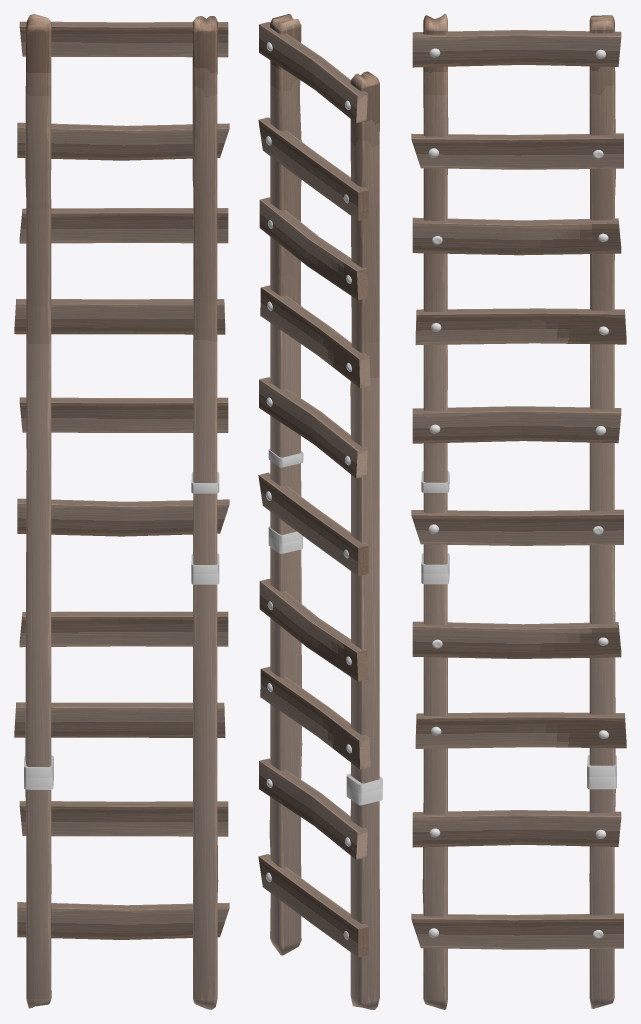
File: SM_Ladder_01.fbx
3 renders of one model, left to right at view 1: azimuth 90°, elevation 25°; view 2: azimuth 210°, elevation 25°; view 3: azimuth 270°, elevation 25°, orthographic. The views are drawn at different scales.
Visible parts, largest first — view 1: SM_Ladder_01_LOD0; view 2: SM_Ladder_01_LOD0; view 3: SM_Ladder_01_LOD0.
Boxes of the visible parts, x1,y1,x2,y2 form: SM_Ladder_01_LOD0: [14, 14, 229, 1009]; SM_Ladder_01_LOD0: [258, 14, 382, 1009]; SM_Ladder_01_LOD0: [411, 14, 626, 1009].
Size of the model in its own units: 15.44 by 88.81 by 450.
